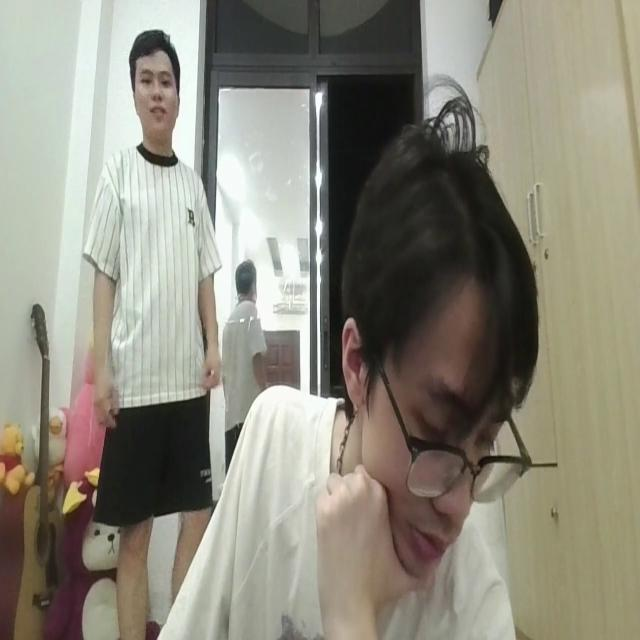extra_person: (84, 34, 220, 548)
student: (184, 122, 540, 640)
